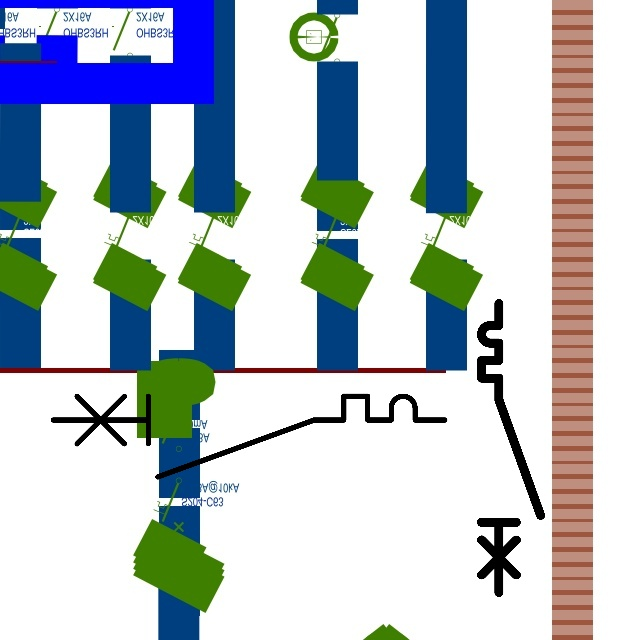interruptor_termomagnetico: (43, 386, 455, 487), (474, 296, 548, 600)
